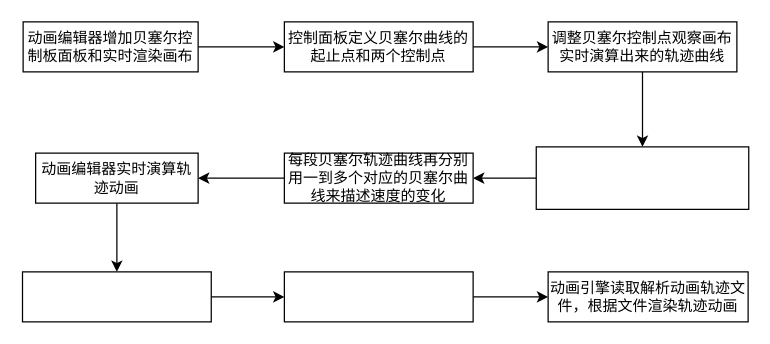
This 770x344 diagram has some shape labels left out. Here are the shapes that lost their labels. From the top down, the box of each, then its label:
(535, 146, 749, 209): 根据需要定义一到多个贝塞尔轨迹曲线，每一个贝塞尔曲线的起点均是上一个贝塞尔曲线的终点
(21, 271, 211, 322): 根据需要调整轨迹曲线和运动速度
(283, 271, 473, 322): 导出动画轨迹文件
